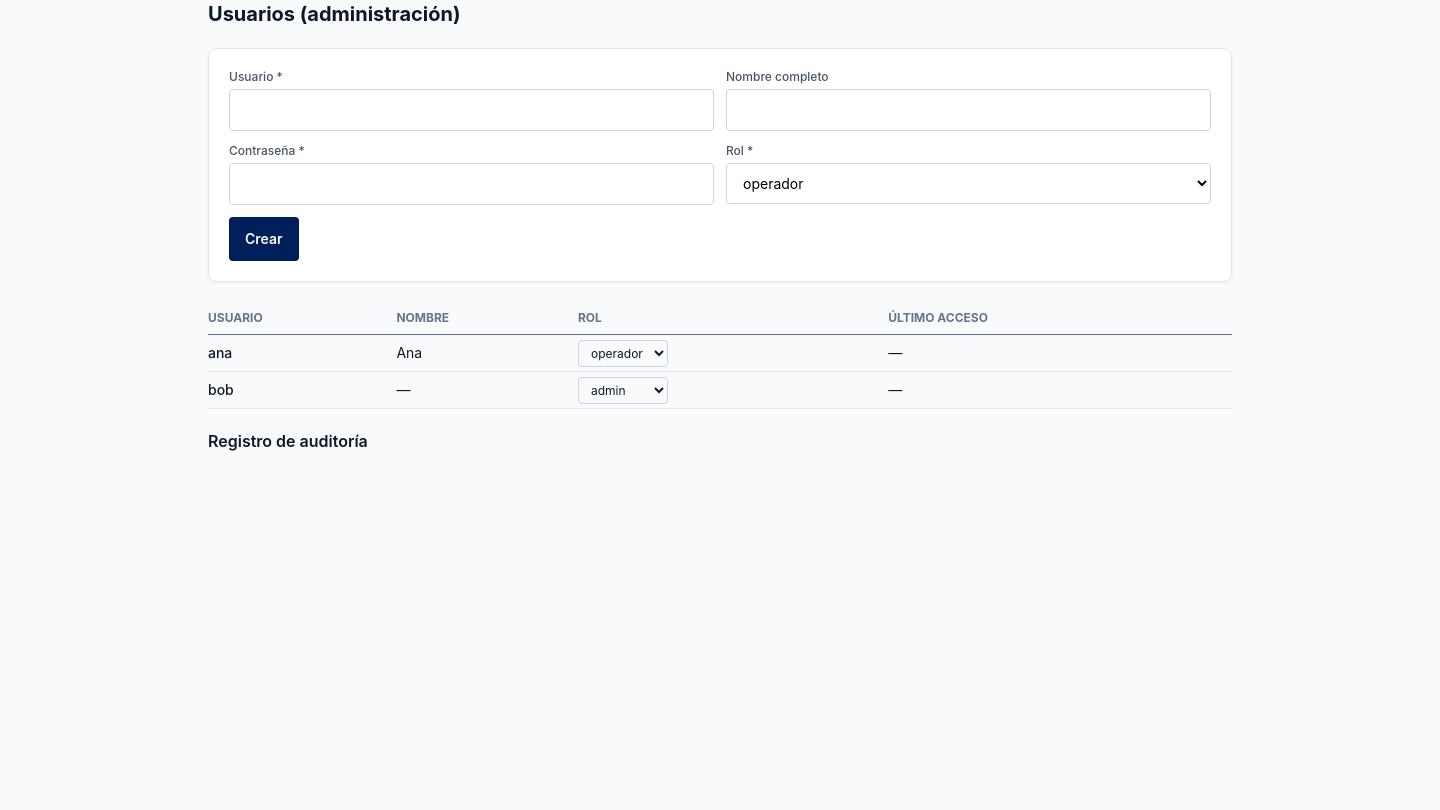
Test: AdminUsersPage › shows visible error feedback when a confirmed role change fails
Step 1. Select "admin" in the dropdown named "Rol de ana" → (623, 353), box [578,340,668,366]
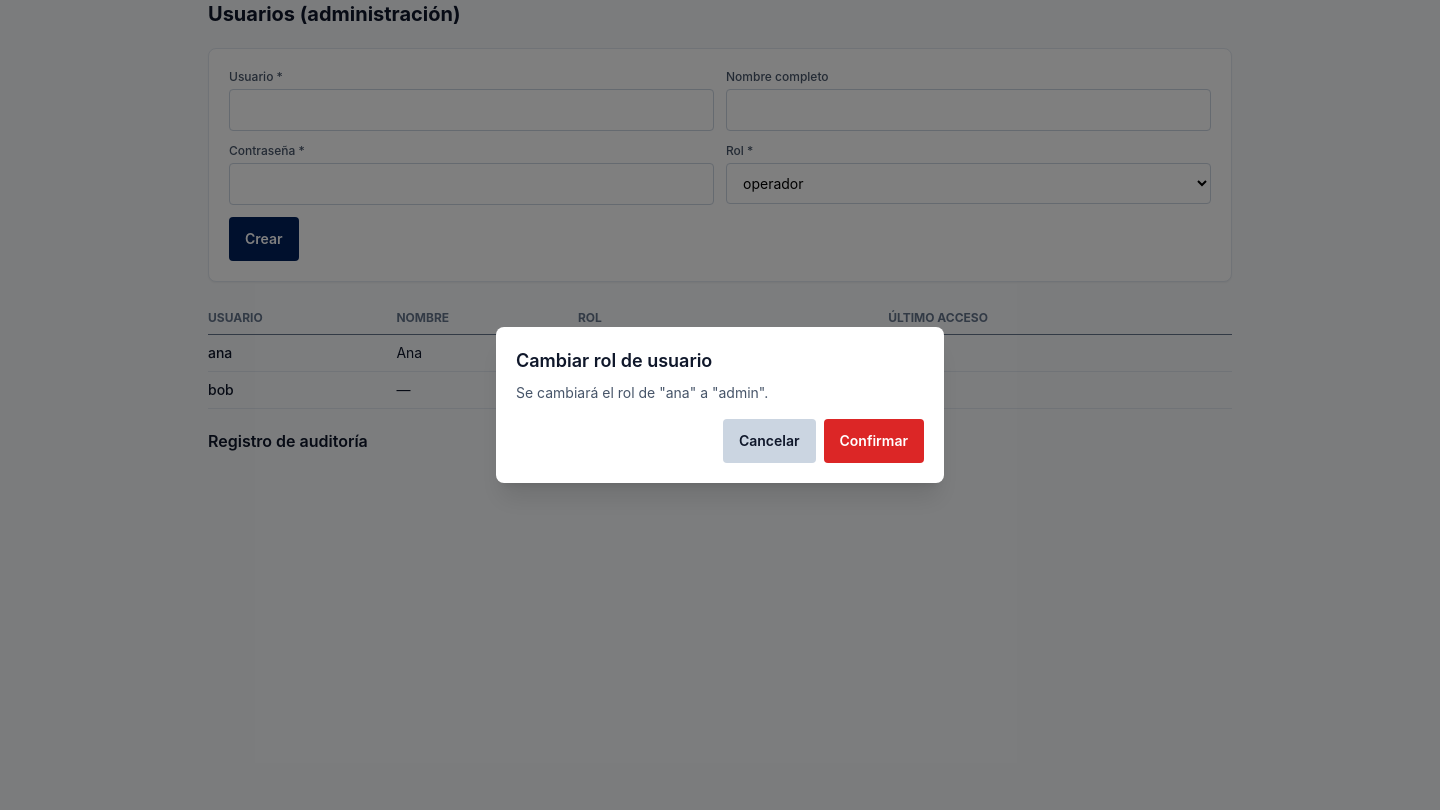
Step 2. Click the button "Confirmar" → click(874, 441), box [824,419,924,463]
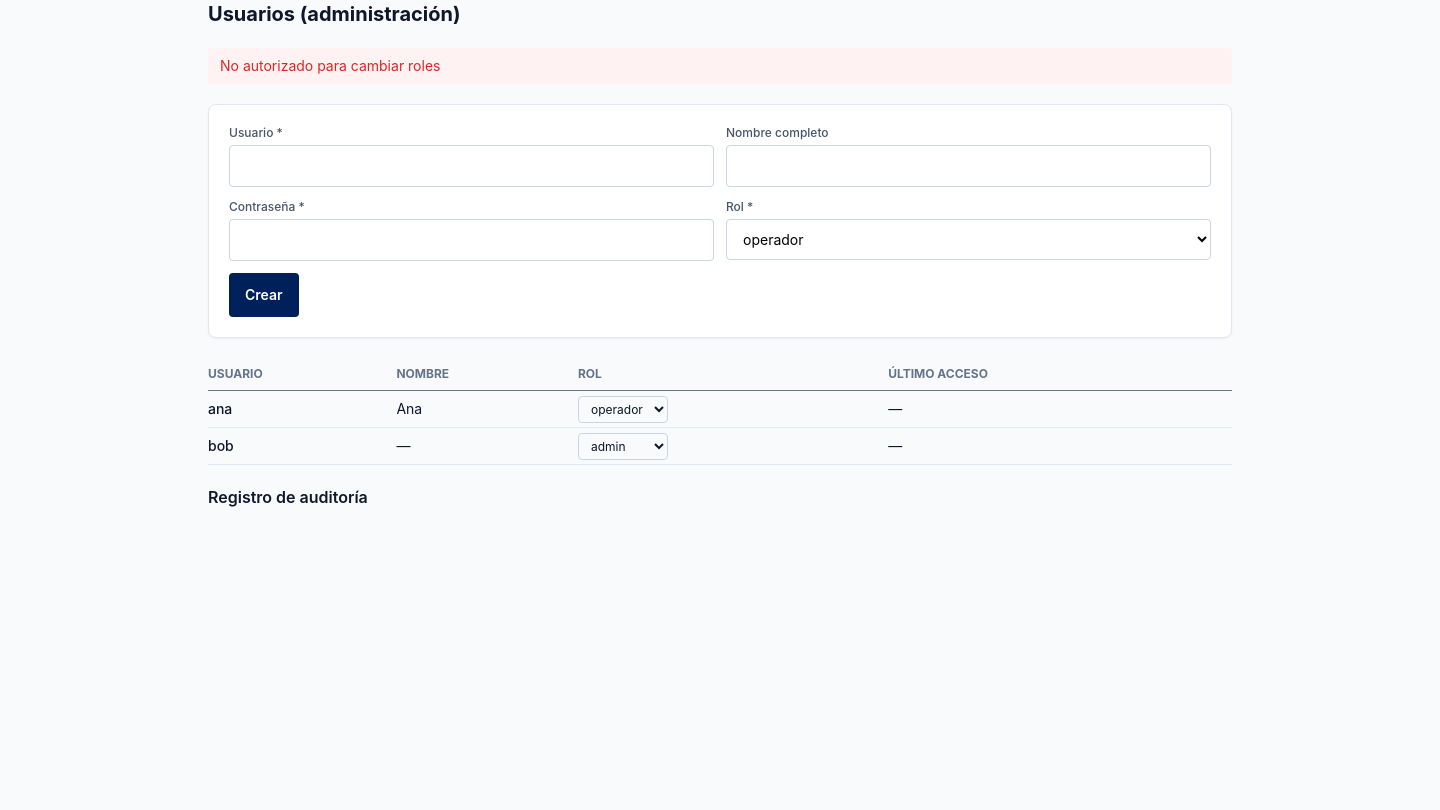
Expected: the text "No autorizado para cambiar roles" is shown, [208,48,1232,84]
